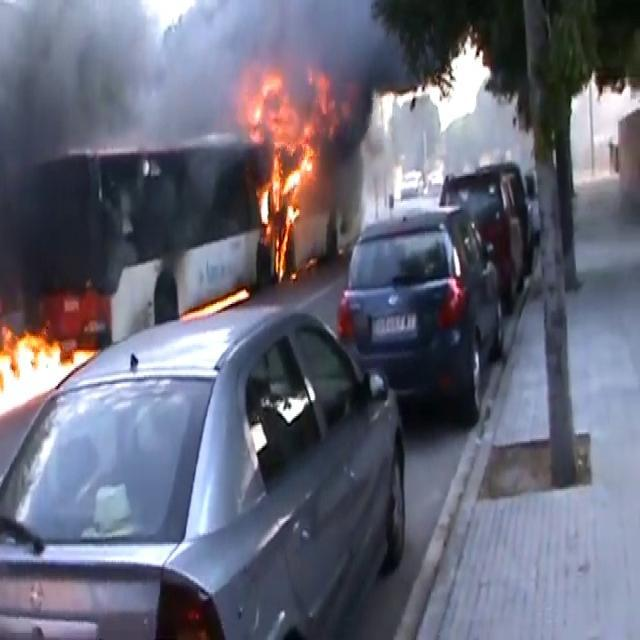Fire: (243, 66, 323, 280), (0, 321, 92, 412)
Smoke: (0, 0, 231, 311)
